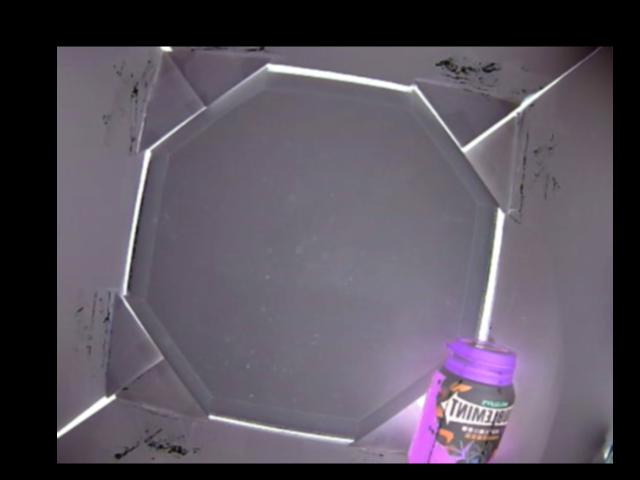Bottle: (401, 334, 519, 463)
